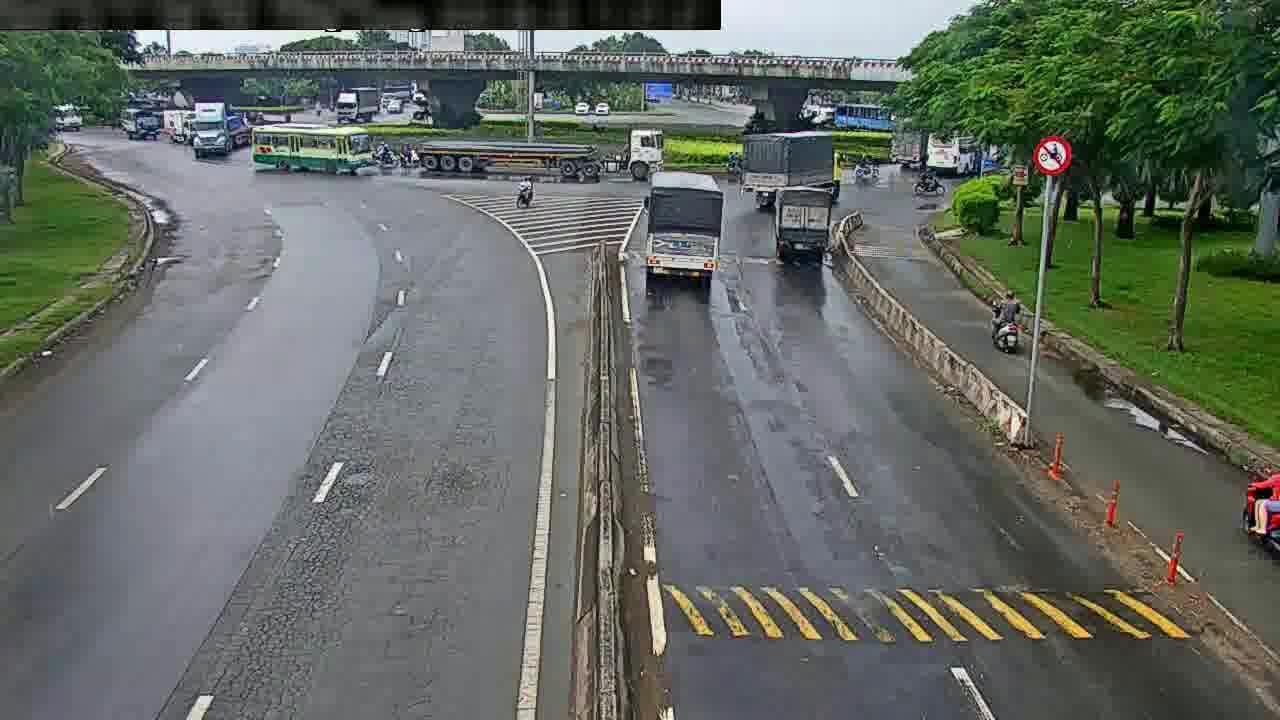14: (249, 119, 384, 175)
8: (413, 127, 663, 182), (641, 166, 722, 297), (741, 130, 842, 213), (769, 184, 848, 275)
motorbike: (987, 286, 1021, 356), (908, 169, 948, 196), (510, 177, 536, 206), (858, 155, 878, 183)
